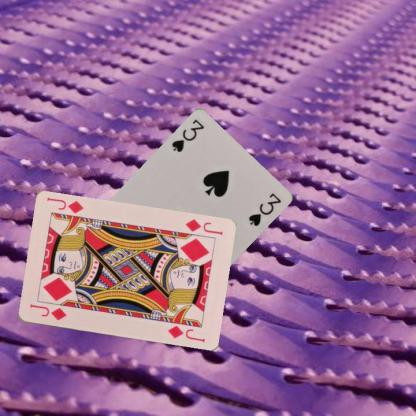3s: (168, 117, 206, 154)
Jd: (26, 301, 68, 322), (182, 217, 224, 237)
